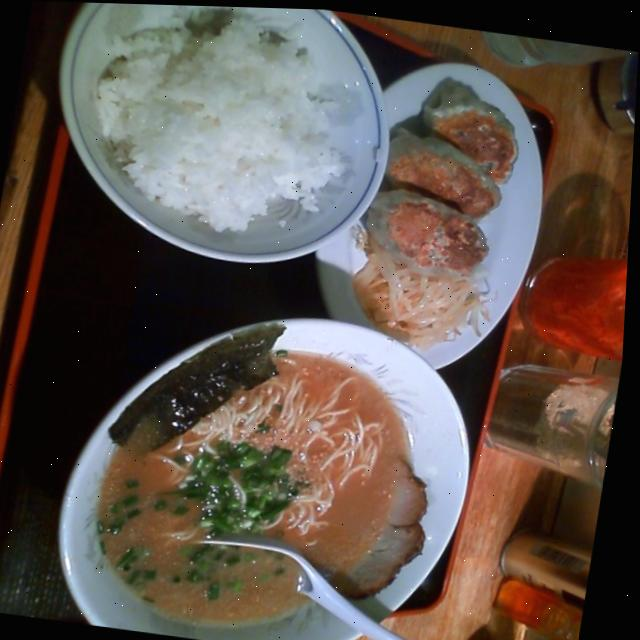带馅早点: (340, 62, 540, 292)
米饭主食: (34, 1, 407, 280)
面条主食: (43, 279, 497, 640)
